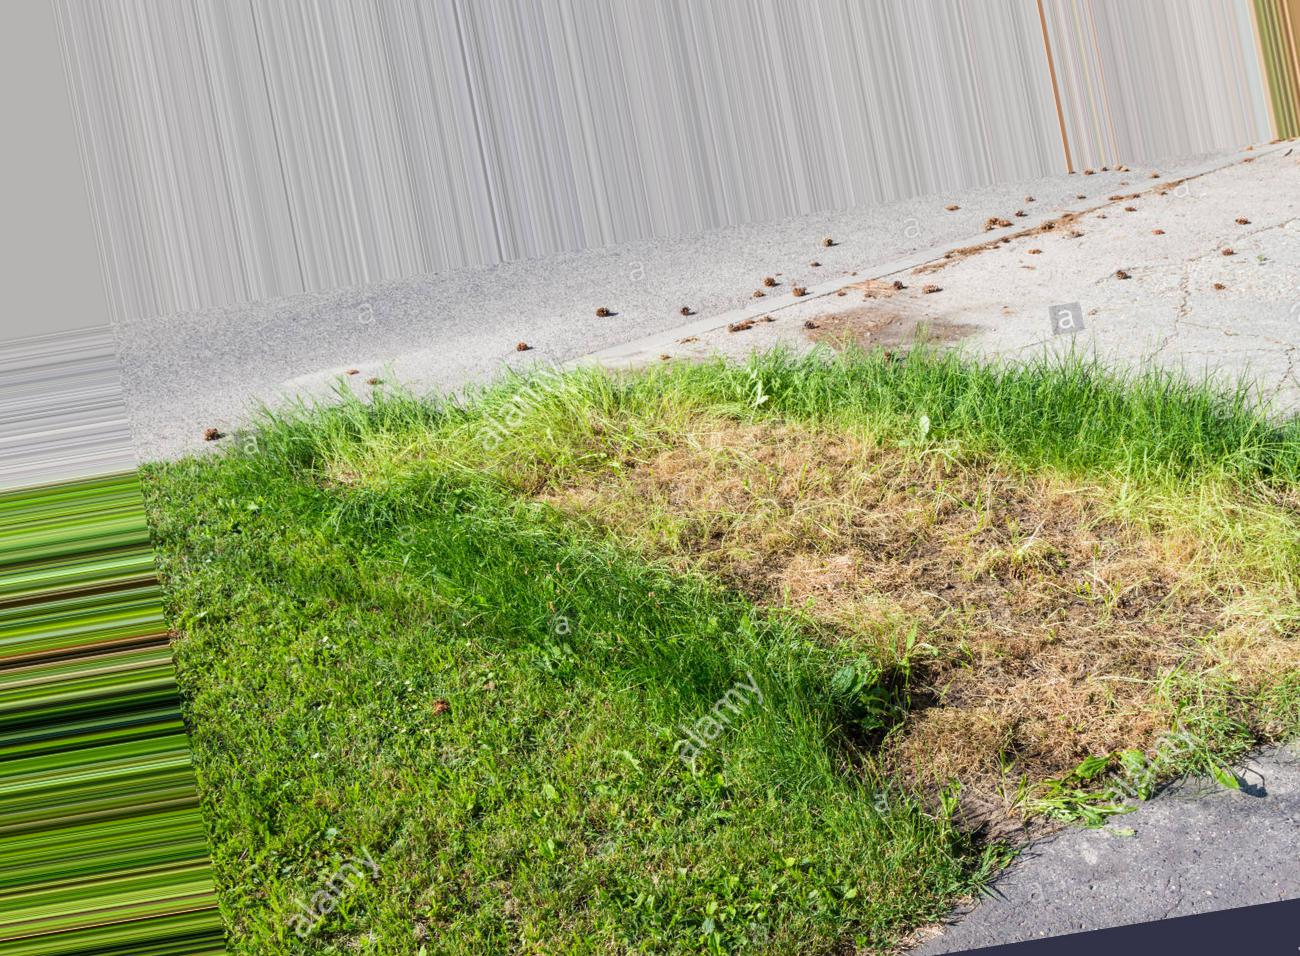patch: (590, 412, 995, 667), (955, 635, 1212, 776)
